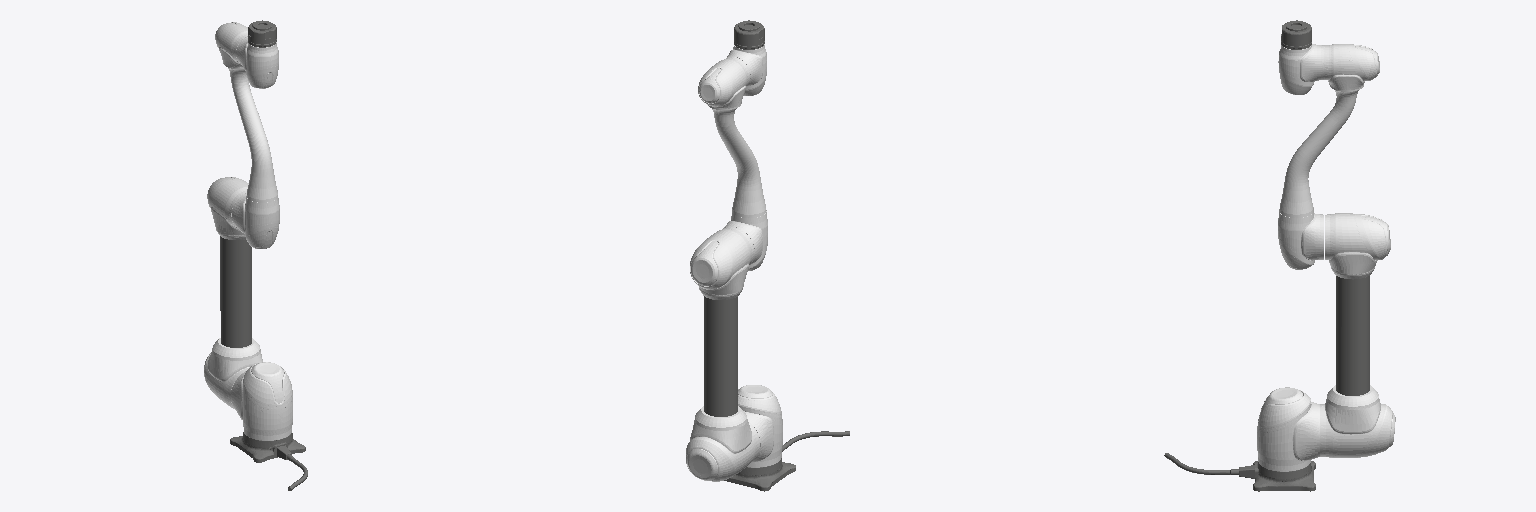
The robot description file, URDF, robot "m1013":
<?xml version="1.0" ?>
<robot name="m1013">

  <material name="black">
    <color rgba="0.0 0.0 0.0 1.0"/>
  </material>
  <material name="white">
    <color rgba="1.0 1.0 1.0 1.0"/>
  </material>
  <material name="orange">
    <color rgba="1.0 0.4 0.0 1.0"/>
  </material>

  <material name="dr_gray">
    <color rgba="0.490 0.490 0.486 1.0"/>
  </material>
  <material name="dr_white">
    <color rgba="0.941 0.941 0.941 1.0"/>
  </material>
  
  <link name="base"/>
  <joint name="fixed" type="fixed">
    <parent link="base"/>
    <child link="base_0"/>
  </joint>
  
  <link name="base_0">
	<inertial>
	  <mass value="3.722"/>
	  <origin xyz="-1.2e-05 -6e-05 0.050723"/>
      <inertia ixx="0.011" ixy="-7.19e-06" ixz="-1.94e-06" iyy="0.011" iyz="4.9e-06" izz="0.014"/>
    </inertial>
	<visual>
      <origin rpy="0 0 0" xyz="0 0 0"/>
      <geometry>
        <mesh filename="package://dsr_description/meshes/m1013/MF1013_0_0.stl" scale="0.001 0.001 0.001"/>
      </geometry>
      <material name="dr_gray"/>
    </visual>
  </link>

  <joint name="joint1" type="revolute">
    <parent link="base_0"/>
    <child link="link1"/>
    <origin rpy="0 0 0" xyz="0 0 0.1525"/>
    <axis xyz="0 0 1"/>
    <limit effort="30" lower="-2.617" upper="2.617" velocity="1.571"/>
  </joint>

  <link name="link1">
	<inertial>
	  <mass value="7.446"/>
	  <origin xyz="7e-05 0.044281 0.143327"/>
      <inertia ixx="0.039" ixy="2.1e-05" ixz="-3.61e-05" iyy="0.023" iyz="-0.003" izz="0.039"/>
    </inertial>
    <visual>
      <origin rpy="0 0 0" xyz="0 0 0"/>
      <geometry>
        <mesh filename="package://dsr_description/meshes/m1013/MF1013_1_0.stl" scale="0.001 0.001 0.001"/>
      </geometry>
      <material name="dr_white"/>
    </visual>
  </link>
  
  <joint name="joint2" type="revolute">
    <parent link="link1"/>
    <child link="link2"/>
    <origin rpy="0 -1.571 -1.571" xyz="0 0.0345 0"/>
    <axis xyz="0 0 1"/>
    <limit effort="30" lower="-2.617" upper="2.617" velocity="1.571"/>
  </joint>

  <link name="link2">
	<inertial>
	  <mass value="10.569"/>
	  <origin xyz="-1.6e-05 0.189372 0.418558"/>
      <inertia ixx="0.820" ixy="1.19e-05" ixz="-0.000263" iyy="0.82" iyz="-0.008" izz="0.031"/>
    </inertial>
    <visual>
      <origin rpy="0 0 0" xyz="0 0 0"/>
      <geometry>
        <mesh filename="package://dsr_description/meshes/m1013/MF1013_2_0.stl" scale="0.001 0.001 0.001"/>
      </geometry>
      <material name="dr_white"/>
    </visual>
    <visual>
      <origin rpy="0 0 0" xyz="0 0 0"/>
      <geometry>     
		<mesh filename="package://dsr_description/meshes/m1013/MF1013_2_1.stl" scale="0.001 0.001 0.001"/>
      </geometry>
      <material name="dr_gray">
        <color rgba="0.490 0.490 0.486 1.0"/>
      </material>
	  </visual>
    <visual>
      <origin rpy="0 0 0" xyz="0 0 0"/>
      <geometry>     
		<mesh filename="package://dsr_description/meshes/m1013/MF1013_2_2.stl" scale="0.001 0.001 0.001"/>
      </geometry>
      <material name="dr_white"/>
    </visual>	
  </link>

  <joint name="joint3" type="revolute">
    <parent link="link2"/>
    <child link="link3"/>
    <origin rpy="0 0 1.571" xyz="0.62 0 0"/>
    <axis xyz="0 0 1"/>
    <limit effort="30" lower="-2.617" upper="2.617" velocity="1.571"/>
  </joint>
  
  <link name="link3">
	<inertial>
	  <mass value="3.614"/>
	  <origin xyz="6e-06 0.07917 0.781807"/>
      <inertia ixx="0.012" ixy="-4.38e-06" ixz="-1.2e-06" iyy="0.008" iyz="0.002" izz="0.011"/>
    </inertial>
    <visual>
      <origin rpy="0 0 0" xyz="0 0 0"/>
      <geometry>     
		<mesh filename="package://dsr_description/meshes/m1013/MF1013_3_0.stl" scale="0.001 0.001 0.001"/>
      </geometry>
      <material name="dr_white"/>
    </visual>
  </link>

  <joint name="joint4" type="revolute">
    <parent link="link3"/>
    <child link="link4"/>
    <origin rpy="1.571 0 0" xyz="0 -0.559 0"/>
    <axis xyz="0 0 1"/>
    <limit effort="30" lower="-2.617" upper="2.617" velocity="1.571"/>
  </joint>
  
  <link name="link4">
	<inertial>
	  <mass value="3.785"/>
	  <origin xyz="-2.1e-05 0.12337 1.148"/>
      <inertia ixx="0.177" ixy="-2.34e-06" ixz="-4.92e-06" iyy="0.161" iyz="-0.05" izz="0.022"/>
    </inertial>
    <visual>
      <origin rpy="0 0 0" xyz="0 0 0"/>
      <geometry>     
		<mesh filename="package://dsr_description/meshes/m1013/MF1013_4_0.stl" scale="0.001 0.001 0.001"/>
      </geometry>
      <material name="dr_white"/>
    </visual>
    <visual>
      <origin rpy="0 0 0" xyz="0 0 0"/>
      <geometry>     
		<mesh filename="package://dsr_description/meshes/m1013/MF1013_4_1.stl" scale="0.001 0.001 0.001"/>
      </geometry>
      <material name="dr_white">
        <color rgba="0.941 0.941 0.941 1.0"/>
      </material>
    </visual>
  </link>

  <joint name="joint5" type="revolute">
    <parent link="link4"/>
    <child link="link5"/>
    <origin rpy="-1.571 0 0" xyz="0 0 0"/>
    <axis xyz="0 0 1"/>
    <limit effort="30" lower="-2.617" upper="2.617" velocity="1.571"/>
  </joint>
  
  <link name="link5">
	<inertial>
	  <mass value="2.598"/>
	  <origin xyz="-1.7e-05 0.06662 1.33103"/>
      <inertia ixx="0.007" ixy="-4.93e-06" ixz="-5.57e-06" iyy="0.004" iyz="-6.64e-05" izz="0.007"/>
    </inertial>
    <visual>
      <origin rpy="0 0 0" xyz="0 0 0"/>
      <geometry>     
		<mesh filename="package://dsr_description/meshes/m1013/MF1013_5_0.stl" scale="0.001 0.001 0.001"/>
      </geometry>
      <material name="dr_white"/>
    </visual>
  </link>

  <joint name="joint6" type="revolute">
    <parent link="link5"/>
    <child link="link6"/>
    <origin rpy="1.571 0 0" xyz="0 -0.121 0"/>
    <axis xyz="0 0 1"/>
    <limit effort="30" lower="-2.617" upper="2.617" velocity="1.571"/>
  </joint>
  
  <link name="link6">
	<inertial>
	  <mass value="1.128"/>
	  <origin xyz="-0.000174 0.034708 1.40022"/>
      <inertia ixx="0.001" ixy="-2.79e-06" ixz="5.78e-06" iyy="0.001" iyz="-6.67e-06" izz="0.001"/>
    </inertial>
    <visual>
      <origin rpy="0 0 0" xyz="0 0 0"/>
      <geometry>     
		<mesh filename="package://dsr_description/meshes/m1013/MF1013_6_0.stl" scale="0.001 0.001 0.001"/>
      </geometry>
      <material name="dr_gray"/>
    </visual>
  </link>
  
</robot>

--- Facts derived from the render (not from the file) ---
3 views of the same robot in one strip: view 1: azimuth 30°, elevation 25°; view 2: azimuth 150°, elevation 25°; view 3: azimuth 270°, elevation 25° (orthographic).
Model m1013 with 8 links and 7 joints (6 revolute, 1 fixed), rooted at base, posed every joint at zero.
Links seen in each view (by area): view 1: link2, link1, link4, link3, link5, base_0, link6; view 2: link2, link4, link1, base_0, link3, link5, link6; view 3: link2, link4, link1, link3, base_0, link5, link6.
Boxes of the visible links, x1,y1,x2,y2 form: link2: (204, 177, 262, 408); link1: (231, 362, 292, 440); link4: (215, 22, 277, 202); link3: (232, 193, 279, 248); link5: (236, 37, 278, 88); base_0: (230, 432, 307, 490); link6: (248, 20, 276, 47); link2: (686, 227, 759, 481); link4: (698, 57, 766, 217); link1: (738, 385, 782, 467); base_0: (724, 431, 849, 491); link3: (724, 211, 767, 270); link5: (727, 44, 766, 95); link6: (734, 20, 764, 49); link2: (1320, 213, 1395, 457); link4: (1279, 44, 1379, 217); link1: (1257, 387, 1319, 471); link3: (1278, 212, 1323, 269); base_0: (1164, 453, 1315, 491); link5: (1278, 44, 1323, 94); link6: (1281, 20, 1311, 49).
Bounding box of the posed robot: 0.2144 × 0.6714 × 1.45 m (x, y, z).
10 mesh visuals loaded from 10 distinct referenced files (10 binary STL).
